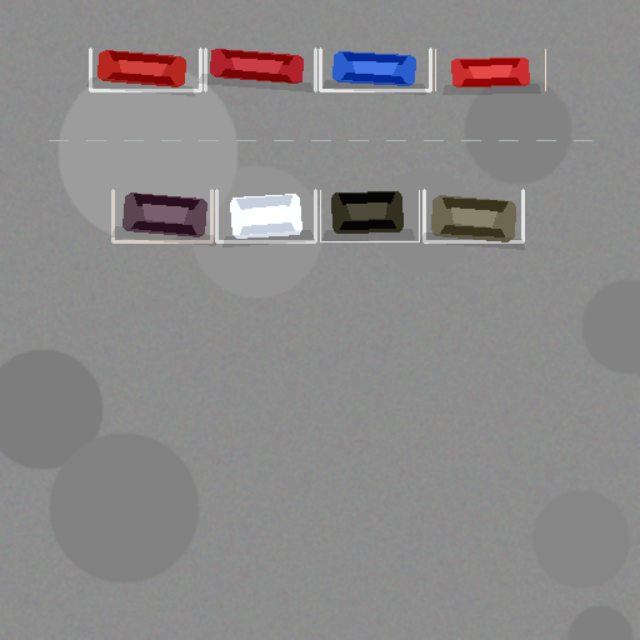space-occupied: (216, 190, 315, 241), (320, 190, 419, 241), (424, 190, 523, 241), (113, 190, 211, 241), (90, 49, 200, 90), (205, 49, 315, 90), (320, 49, 430, 90), (435, 49, 545, 90)
